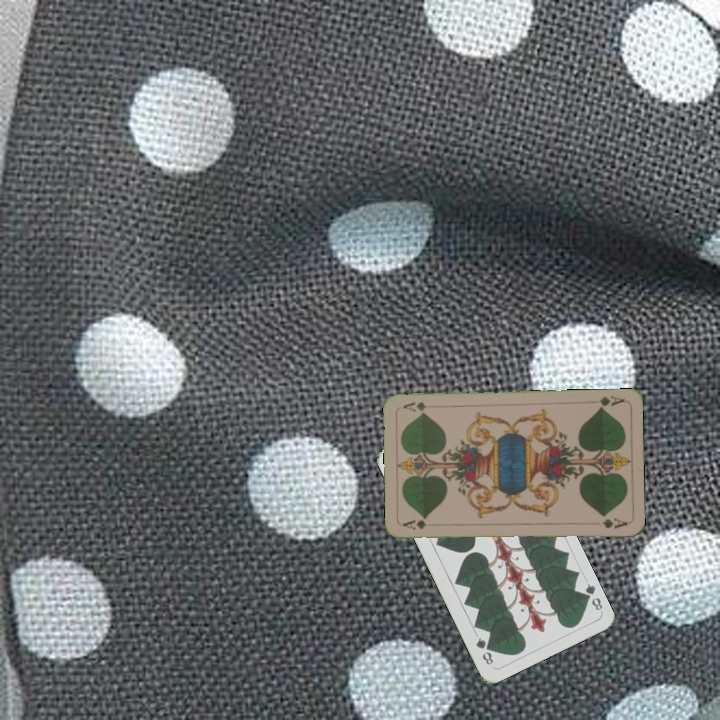G8: (578, 579, 605, 613)
GA: (594, 392, 626, 412), (400, 516, 429, 532)
